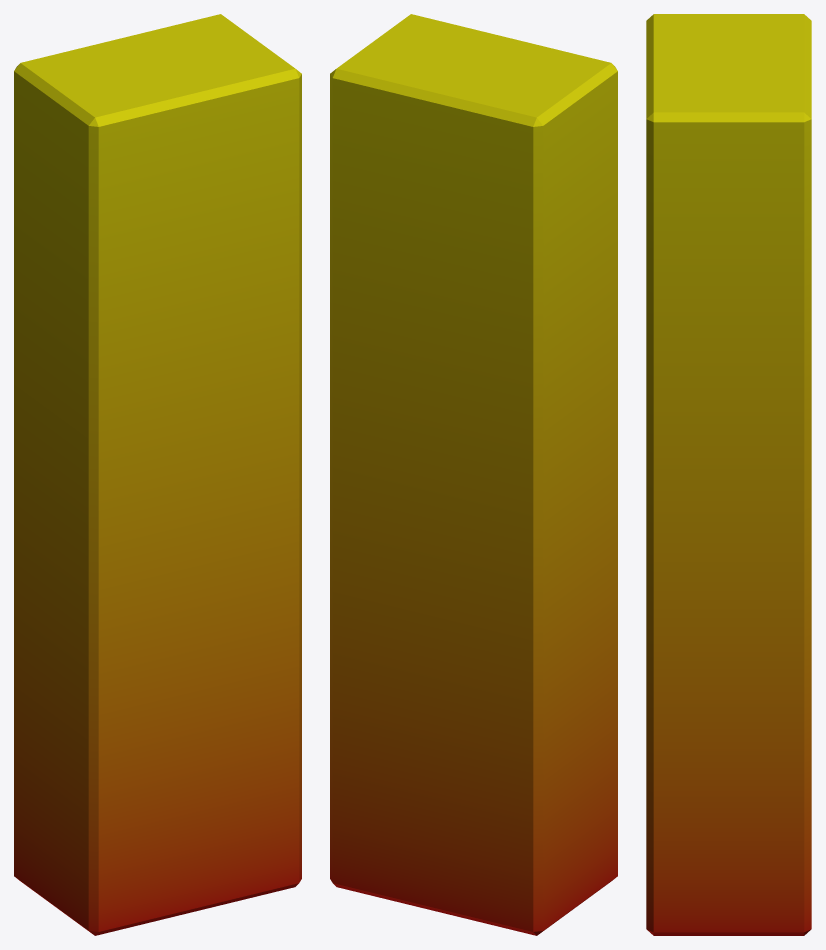
File: standing_stone.glb
3 renders of one model, left to right at view 1: azimuth 30°, elevation 25°; view 2: azimuth 150°, elevation 25°; view 3: azimuth 270°, elevation 25°, orthographic.
Visible parts, largest first — view 1: standing_stone; view 2: standing_stone; view 3: standing_stone.
Boxes of the visible parts, box(x1,y1,x2,y2) form: standing_stone: box(14, 14, 301, 935); standing_stone: box(330, 14, 617, 935); standing_stone: box(646, 14, 811, 935).
Size of what is drawn, in the model's own units: 0.6 by 2.2 by 0.4.
